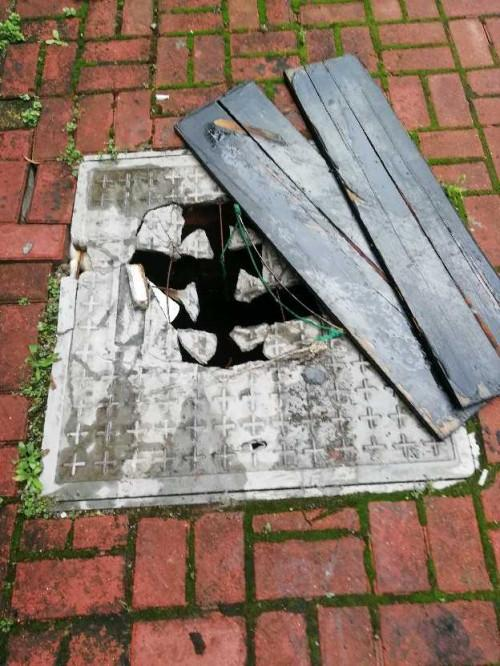broke: (37, 113, 489, 519)
